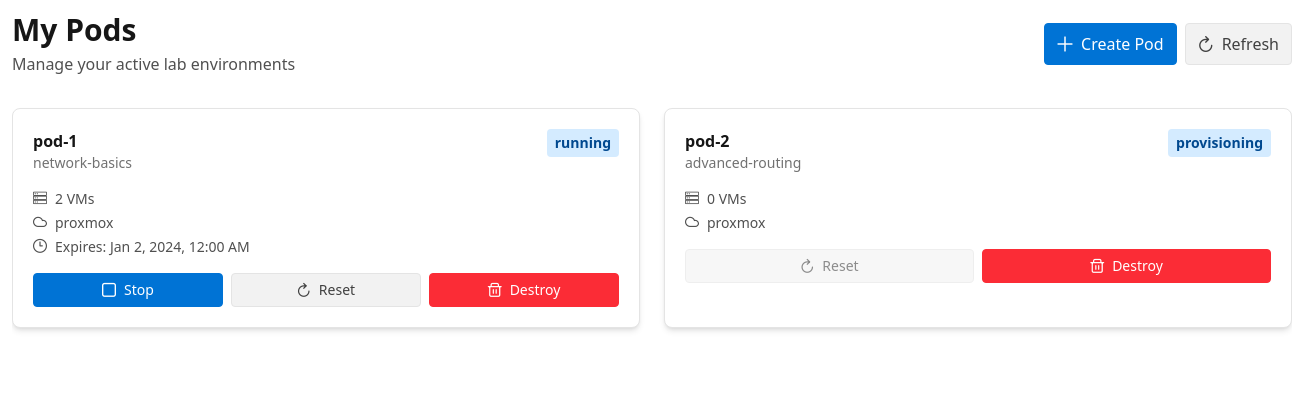
Test: PodsView › error handling › should display error on reset failure
Click the 2nd button "Reset": (326, 290) top-left (231, 273), bottom-right (421, 307)
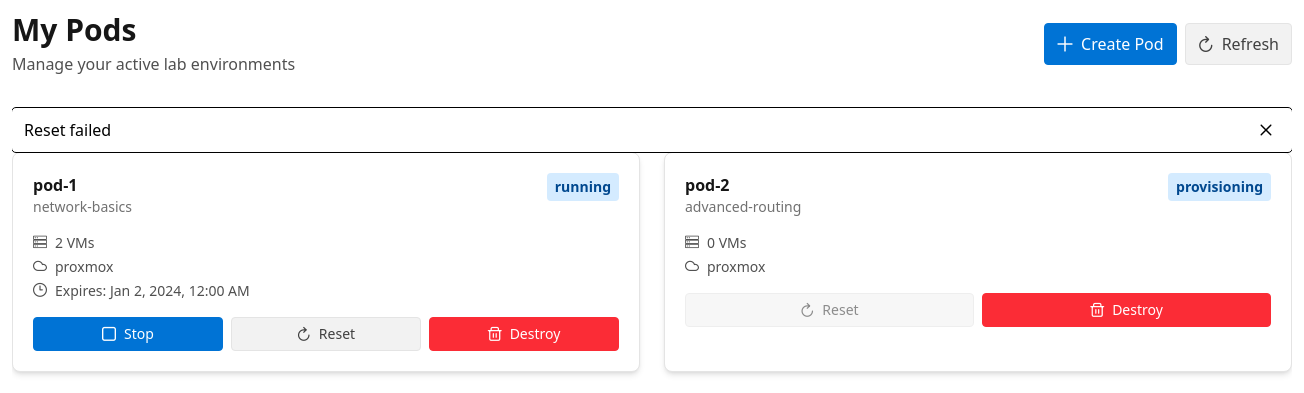
Expected: the text "Reset failed" is shown, top-left (24, 118), bottom-right (111, 142)
